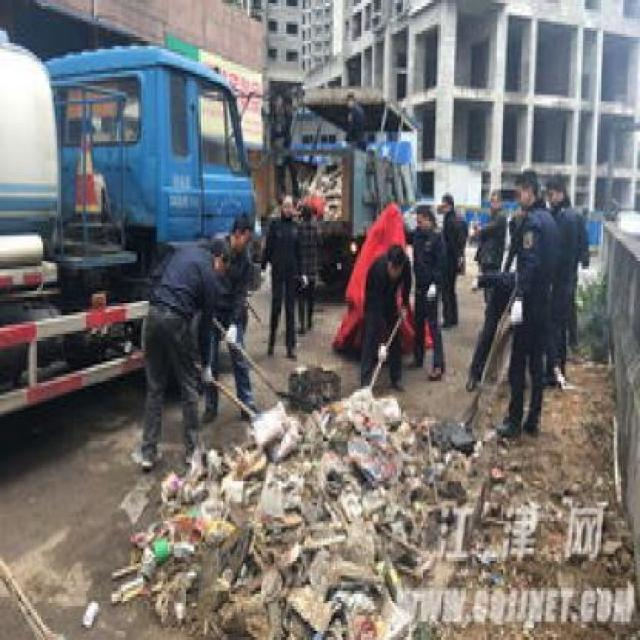garbage: (149, 463, 406, 638), (259, 405, 439, 500), (222, 423, 359, 490)
